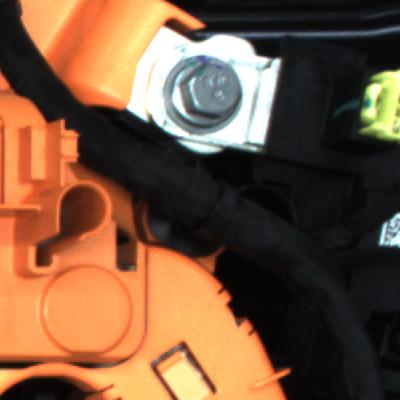nut_b: (154, 55, 256, 136)
